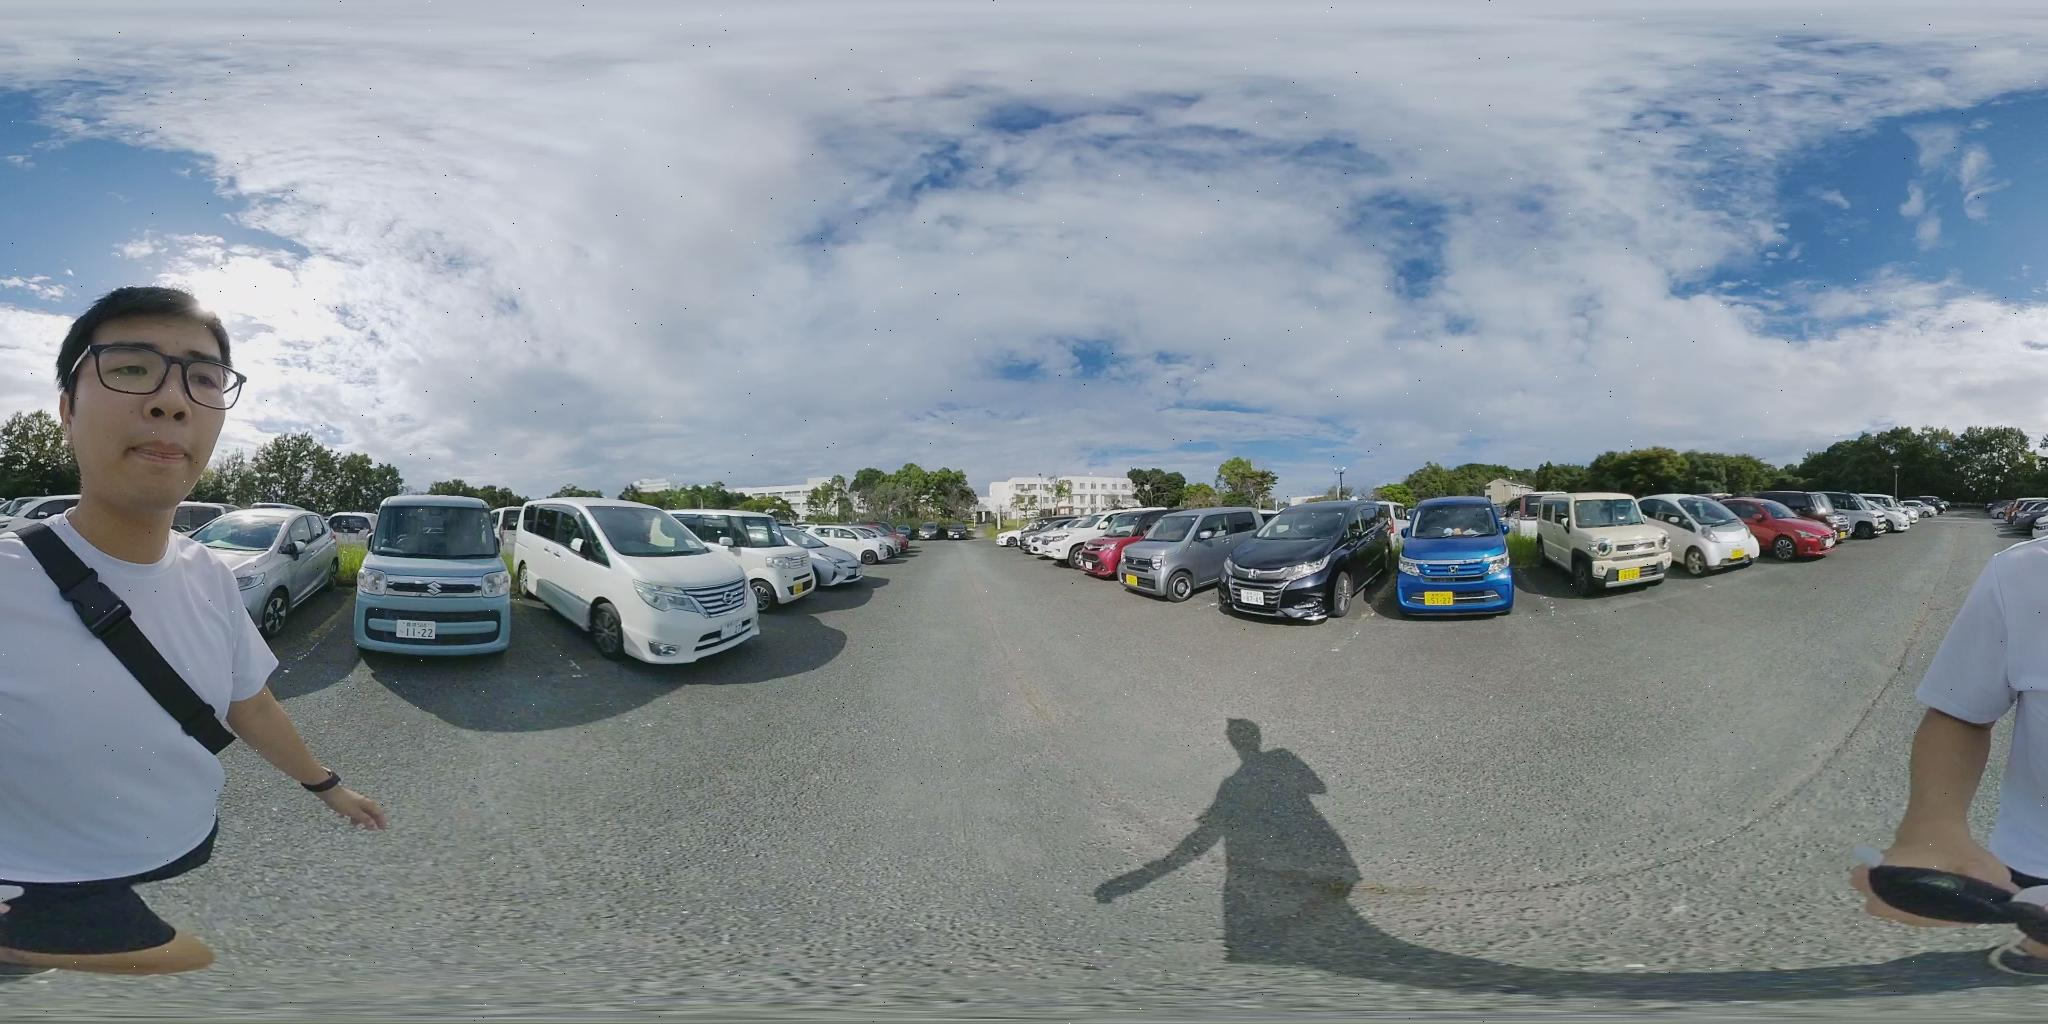car: (496, 499, 768, 665), (353, 492, 516, 656), (1216, 500, 1401, 623), (1514, 488, 1680, 600), (667, 512, 837, 605), (1108, 509, 1263, 600), (1633, 498, 1758, 573), (1715, 498, 1839, 560), (1802, 491, 1904, 536), (801, 525, 906, 566)
